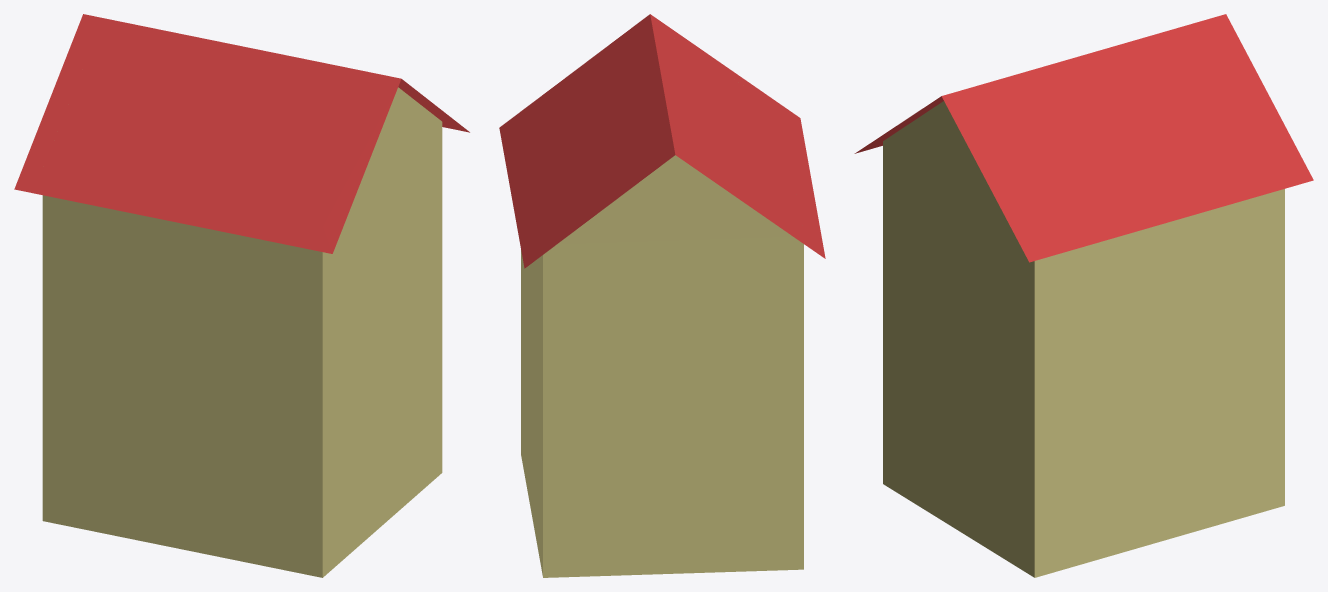
The picture shows the model from 3 angles, left to right: view 1: azimuth 30°, elevation 25°; view 2: azimuth 150°, elevation 25°; view 3: azimuth 270°, elevation 25°; orthographic projection. The views are drawn at different scales.
Size of the model in its own units: 10.89 by 11.11 by 11.72.
